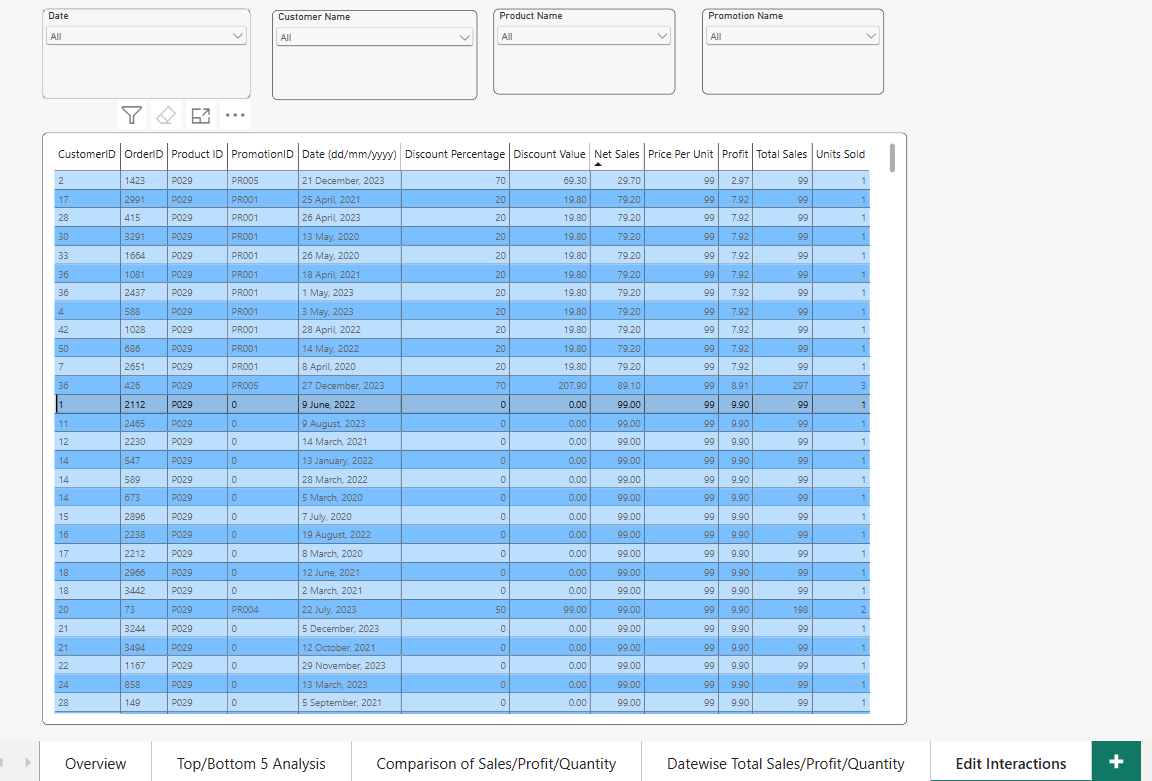

The page's visual inventory and layout, read from the dashboard file:
{"tool":"powerbi","page":{"name":"Edit Interactions","canvas":[1920,1080],"ordinal":4},"visuals":[{"type":"tableEx","fields":{"Values":["Fact Table.CustomerID","Fact Table.OrderID","Fact Table.Product ID","Fact Table.PromotionID","Fact Table.Date (dd/mm/yyyy)","Fact Table.Discount Percentage","Fact Table.Discount Value","Fact Table.Net Sales ","Fact Table.Price Per Unit","Fact Table.Profit","Fact Table.Total Sales  ","Fact Table.Units Sold"]},"box":[67.1,198.6,1218.6,615.7],"z":0},{"type":"slicer","fields":{"Values":["Date Table 1.Date"]},"box":[67.1,20,301.4,130],"z":1000},{"type":"slicer","fields":{"Values":["Dim Customers.Customer Name"]},"box":[400,21.4,297.1,130],"z":2000},{"type":"slicer","fields":{"Values":["Dim Product.Product Name"]},"box":[720,20,262.9,124.3],"z":3000},{"type":"slicer","fields":{"Values":["Dim Promotion.Promotion Name"]},"box":[1022.9,20,262.9,124.3],"z":4000}]}

Visuals, with their boxes on the page's 1920x1080 design canvas (x1, y1, x2, y2). These are canvas units, not pixel positions in the 1152x781 screenshot, which may show the page scaled, cropped or inside an application window:
tableEx - Fact Table.CustomerID x Fact Table.OrderID: detection(67, 199, 1286, 814)
slicer - Date Table 1.Date: detection(67, 20, 368, 150)
slicer - Dim Customers.Customer Name: detection(400, 21, 697, 151)
slicer - Dim Product.Product Name: detection(720, 20, 983, 144)
slicer - Dim Promotion.Promotion Name: detection(1023, 20, 1286, 144)
